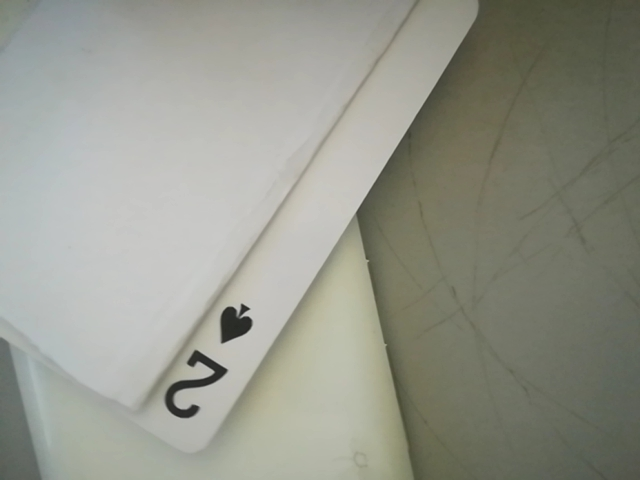ht 2: (146, 294, 272, 435)
